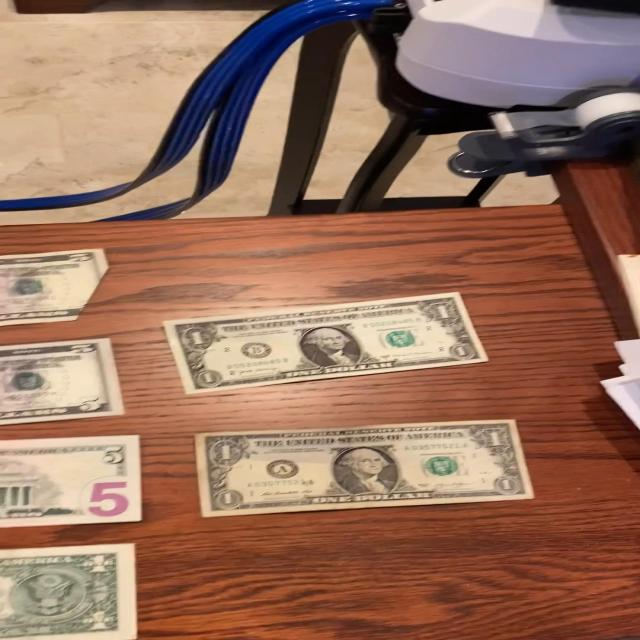1-Back: (1, 535, 145, 640)
1-Front: (162, 290, 499, 397), (188, 416, 538, 518)
5-Back: (1, 434, 148, 531)
5-Front: (0, 337, 132, 426), (0, 246, 118, 327)
